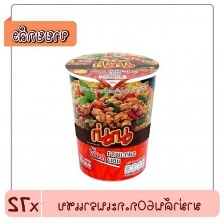paper_cup: (62, 48, 164, 186)
